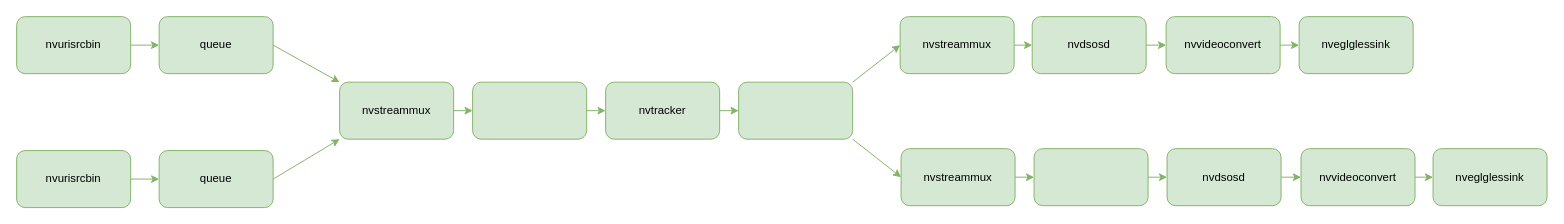
The diagram is 1564 pixels wide and 224 high, and some of its shapes have lost their labels. The shapes that lost their labels are listed below. From the top down, each one's centre as x and y in pixels, then its label:
point (529, 110): nvinferserver
point (795, 110): nvstreamdemux
point (1090, 177): nvinfer
